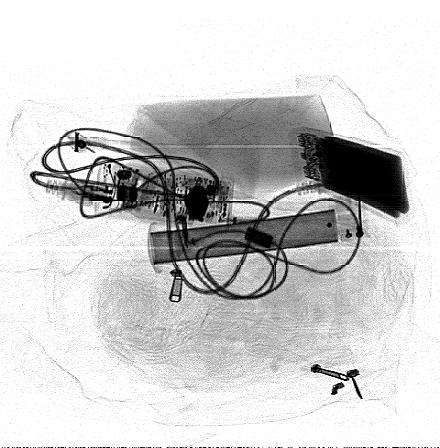Powerbank: (294, 125, 412, 223)
